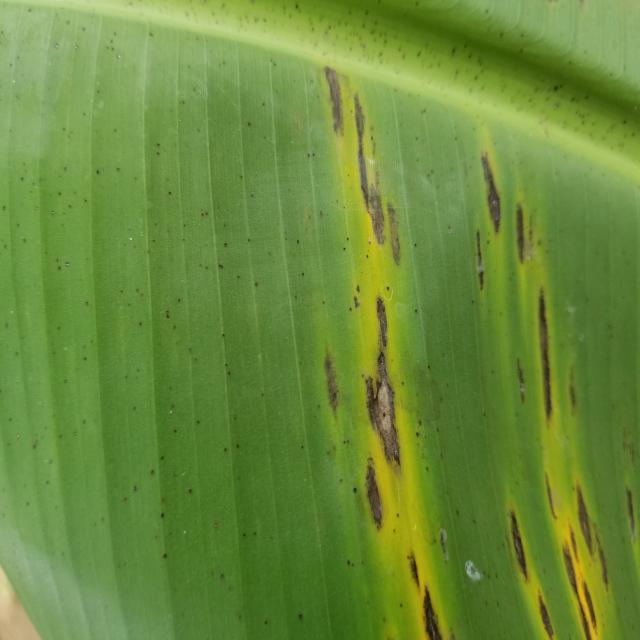Early_rust: (273, 47, 640, 640)
